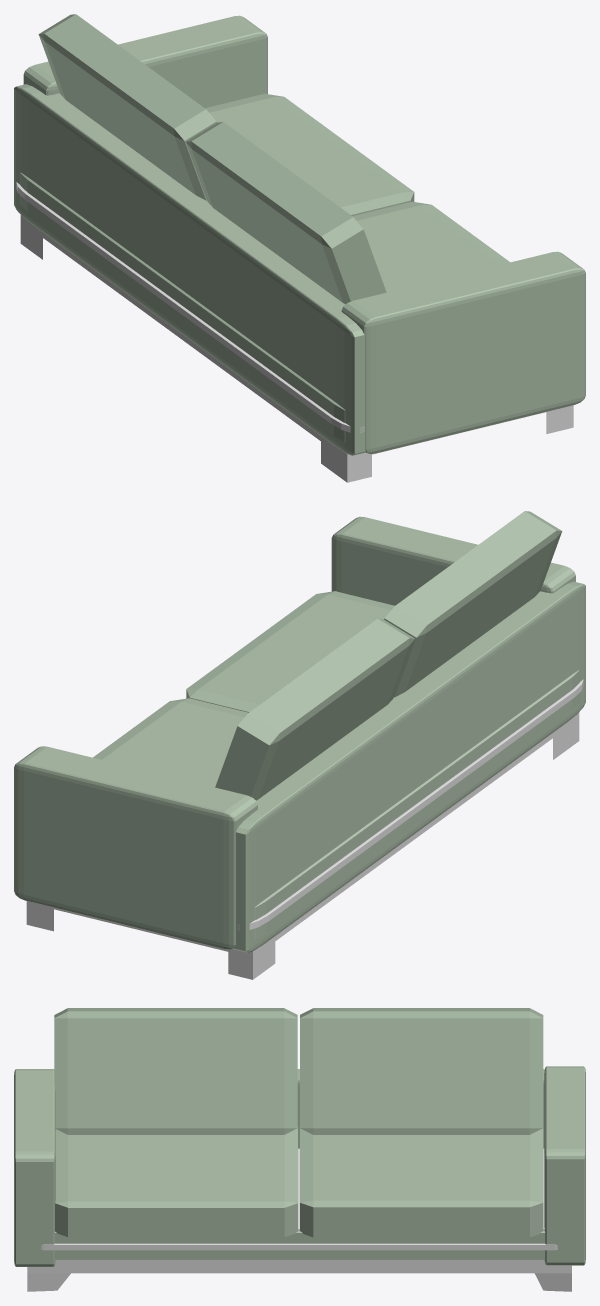
The model's file is sofa.ul.fbx.
3 views of the same model, one above another, from view 1: azimuth 30°, elevation 25°; view 2: azimuth 150°, elevation 25°; view 3: azimuth 270°, elevation 25° (orthographic). The views are drawn at different scales.
Parts seen in each view (by area): view 1: sofa.001, sofa.002, sofa.007, sofa.006, sofa.005, sofa.003, sofa, sofa.004, legs, sofa.008; view 2: sofa.001, sofa.003, sofa.006, sofa.007, sofa.004, sofa.002, sofa, sofa.005, legs, sofa.008; view 3: sofa.006, sofa.007, sofa.005, sofa.004, legs, sofa, sofa.003, sofa.002, sofa.008, sofa.001.
Boxes of the visible parts, x1,y1,x2,y2 form: sofa.001: (14, 84, 365, 455); sofa.002: (341, 251, 585, 453); sofa.007: (186, 122, 386, 304); sofa.006: (38, 14, 216, 200); sofa.005: (205, 93, 414, 215); sofa.003: (23, 15, 267, 108); sofa: (20, 172, 364, 445); sofa.004: (352, 201, 509, 292); legs: (20, 215, 573, 482); sofa.008: (16, 182, 364, 432); sofa.001: (233, 581, 585, 952); sofa.003: (14, 746, 257, 949); sofa.006: (215, 618, 414, 800); sofa.007: (384, 511, 562, 697); sofa.004: (186, 591, 394, 712); sofa.002: (331, 516, 575, 605); sofa: (236, 670, 579, 942); sofa.005: (93, 698, 248, 787); legs: (26, 712, 579, 979); sofa.008: (237, 679, 583, 930); sofa.006: (300, 1008, 543, 1134); sofa.007: (54, 1008, 297, 1134); sofa.005: (300, 1128, 543, 1237); sofa.004: (55, 1127, 297, 1237); legs: (27, 1148, 571, 1291); sofa: (54, 1231, 545, 1259); sofa.003: (544, 1066, 585, 1265); sofa.002: (14, 1069, 55, 1266); sofa.008: (41, 1243, 557, 1250); sofa.001: (54, 1069, 544, 1148).
Bounding box in the file's own units: 216 × 204 × 525.
